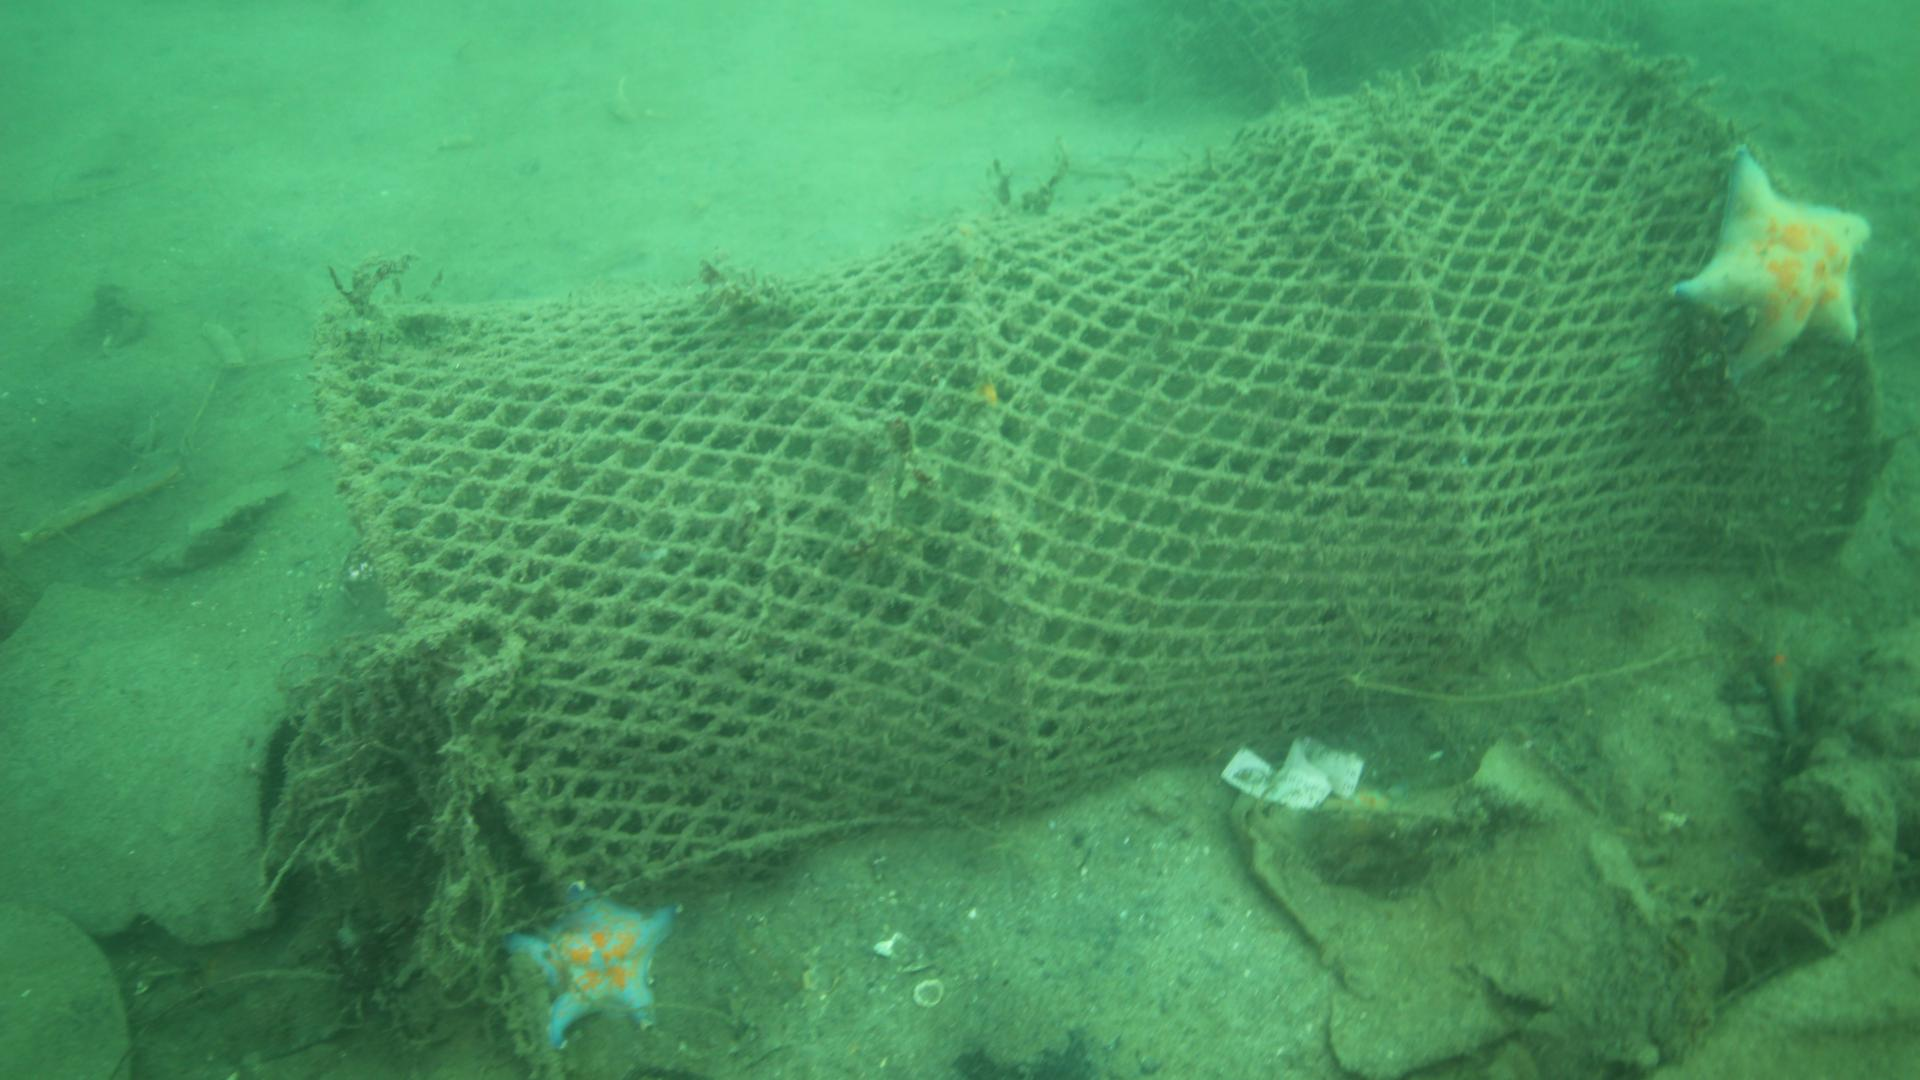spring fish trap: (307, 32, 1878, 913)
